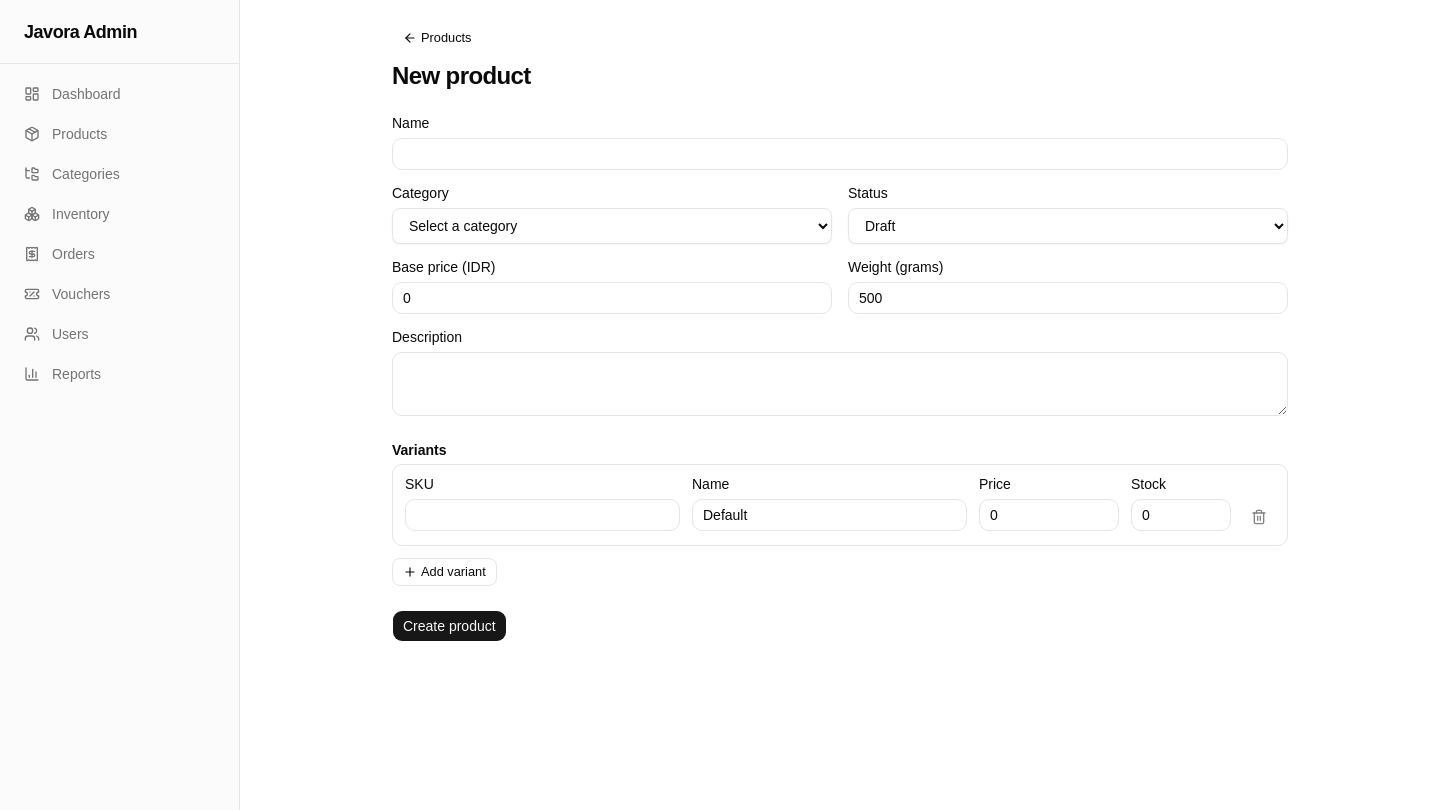
Test: admin products › creates a product with its first variant and opens it for editing
Type "  Canvas Tote " into the 1st field labelled "Name". click: (840, 154)
box: [392,138,1288,170]
Select "— Shoes" in the dropdown labelled "Category". click: (612, 226)
box: [392,208,832,244]
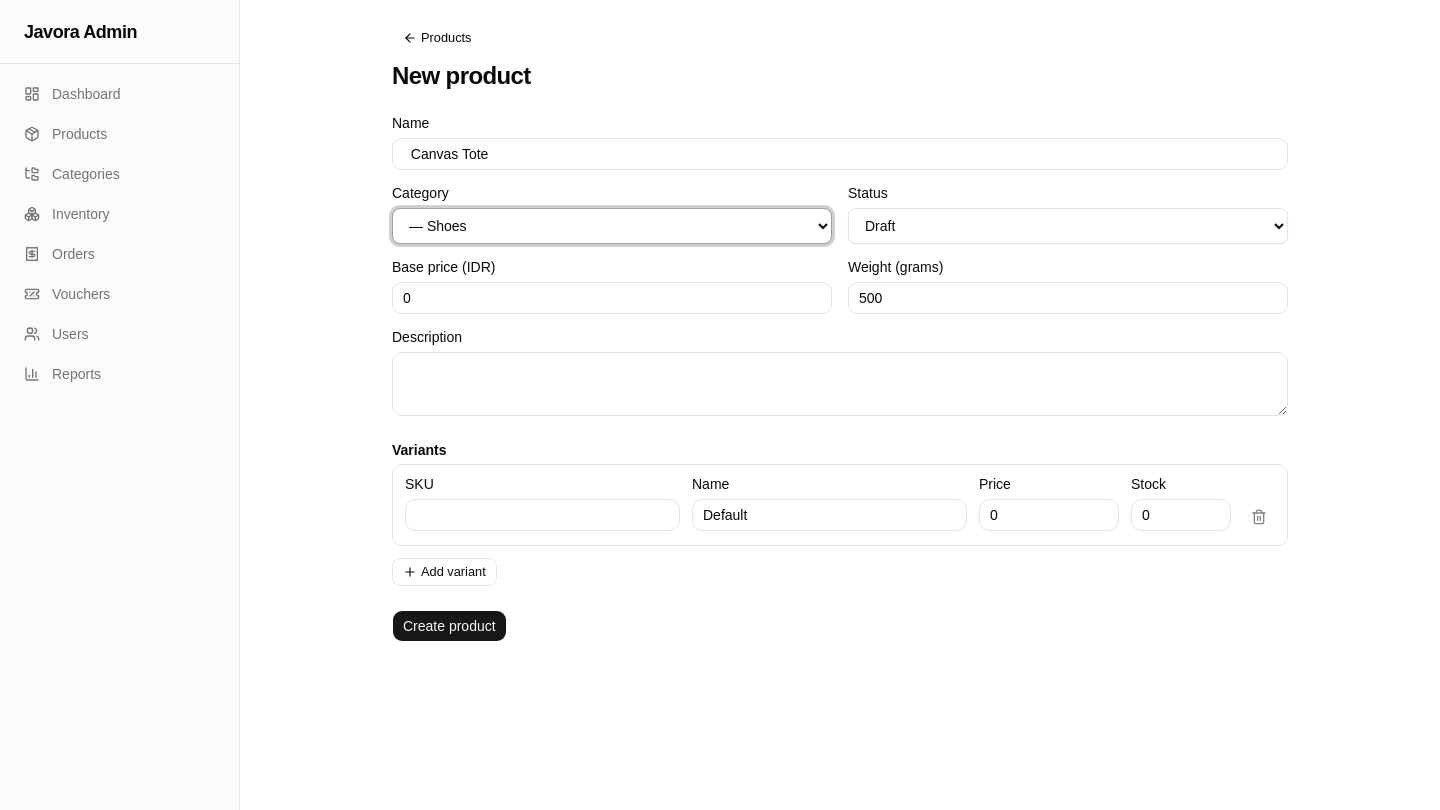
Replace the text in the number field labelled "Base price (IDR)" with "120000". click: (612, 298)
box: [392,282,832,314]
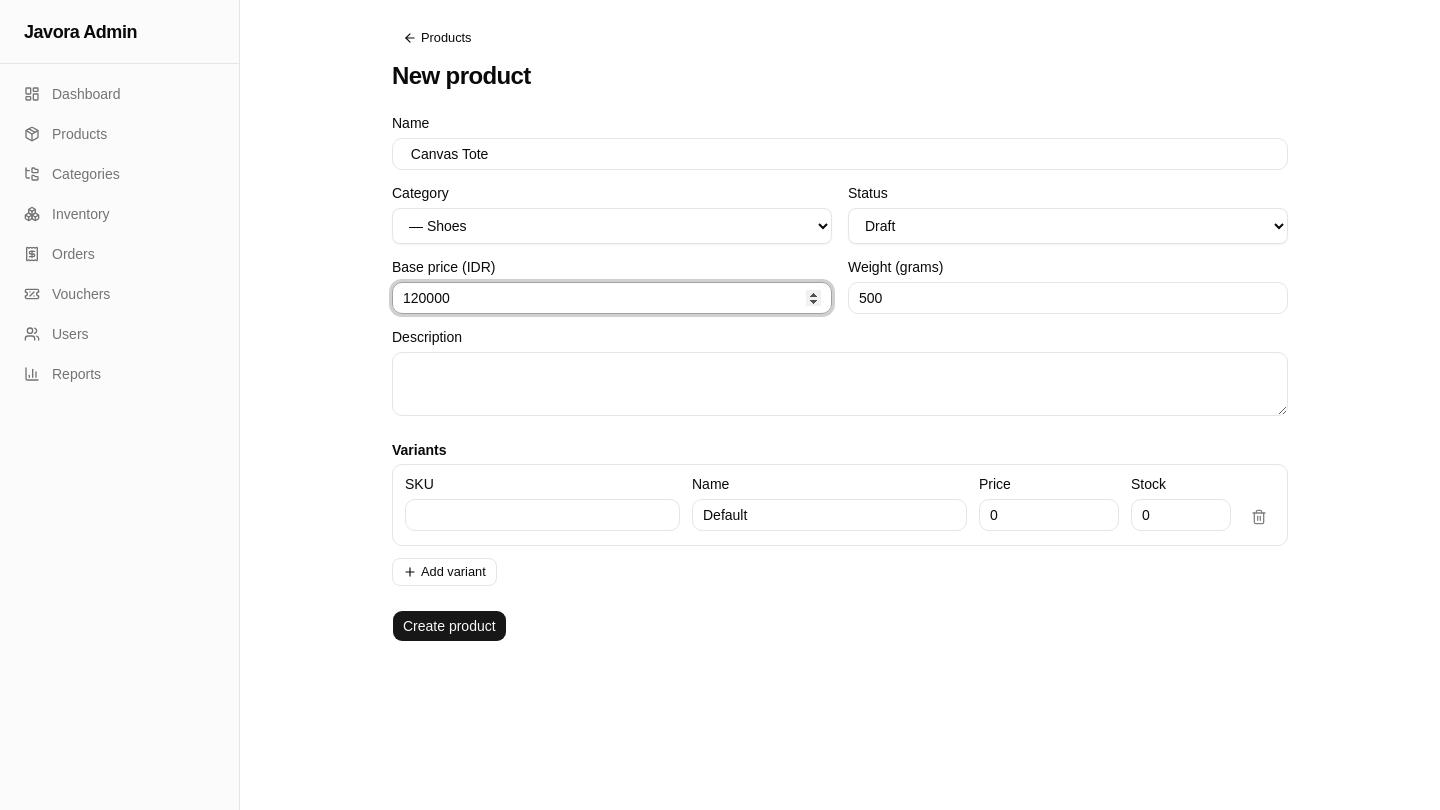
Type "TOTE-1" into the field labelled "SKU". click: (542, 515)
box: [405,499,680,531]
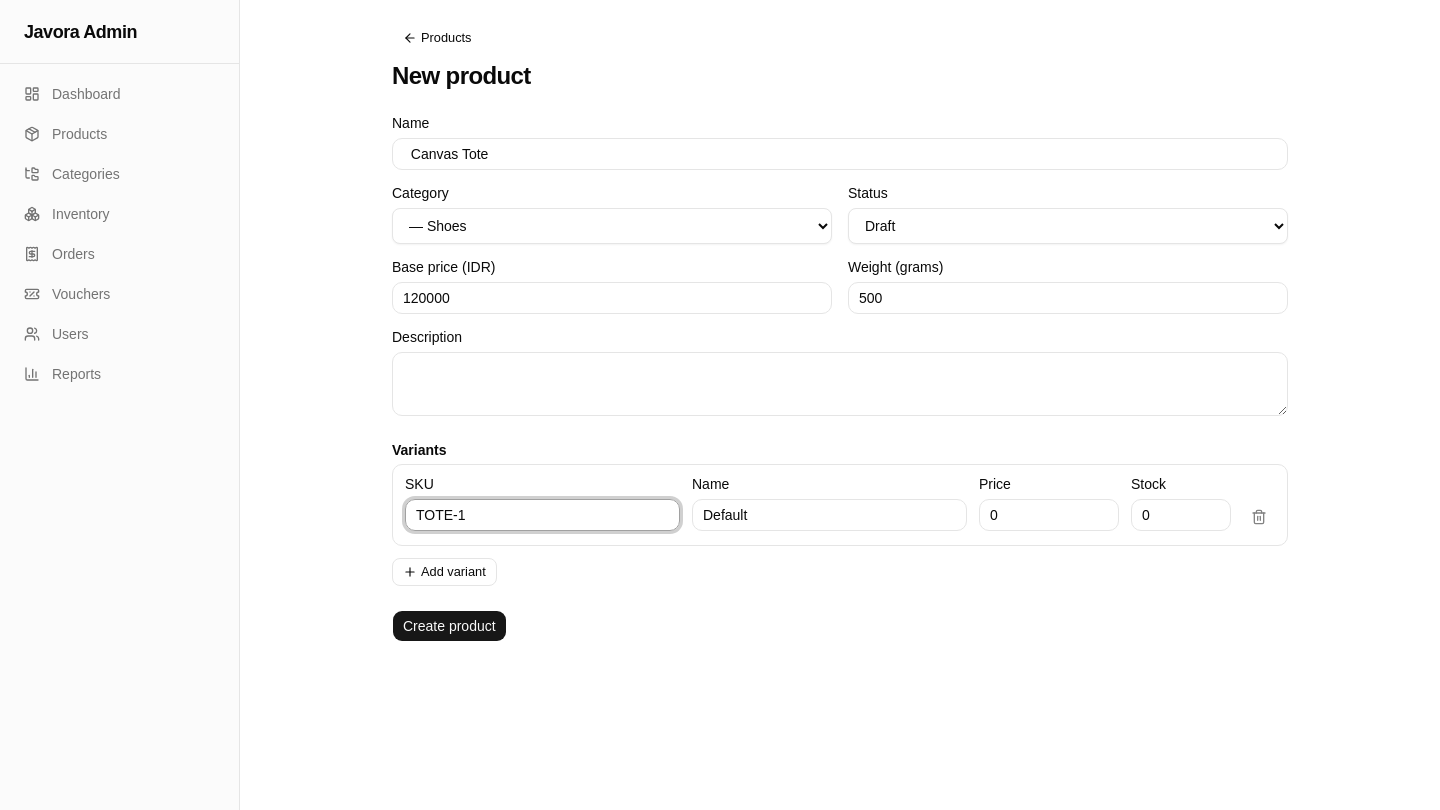
Replace the text in the number field labelled "Price" with "120000". click: (1049, 515)
box: [979,499,1119,531]
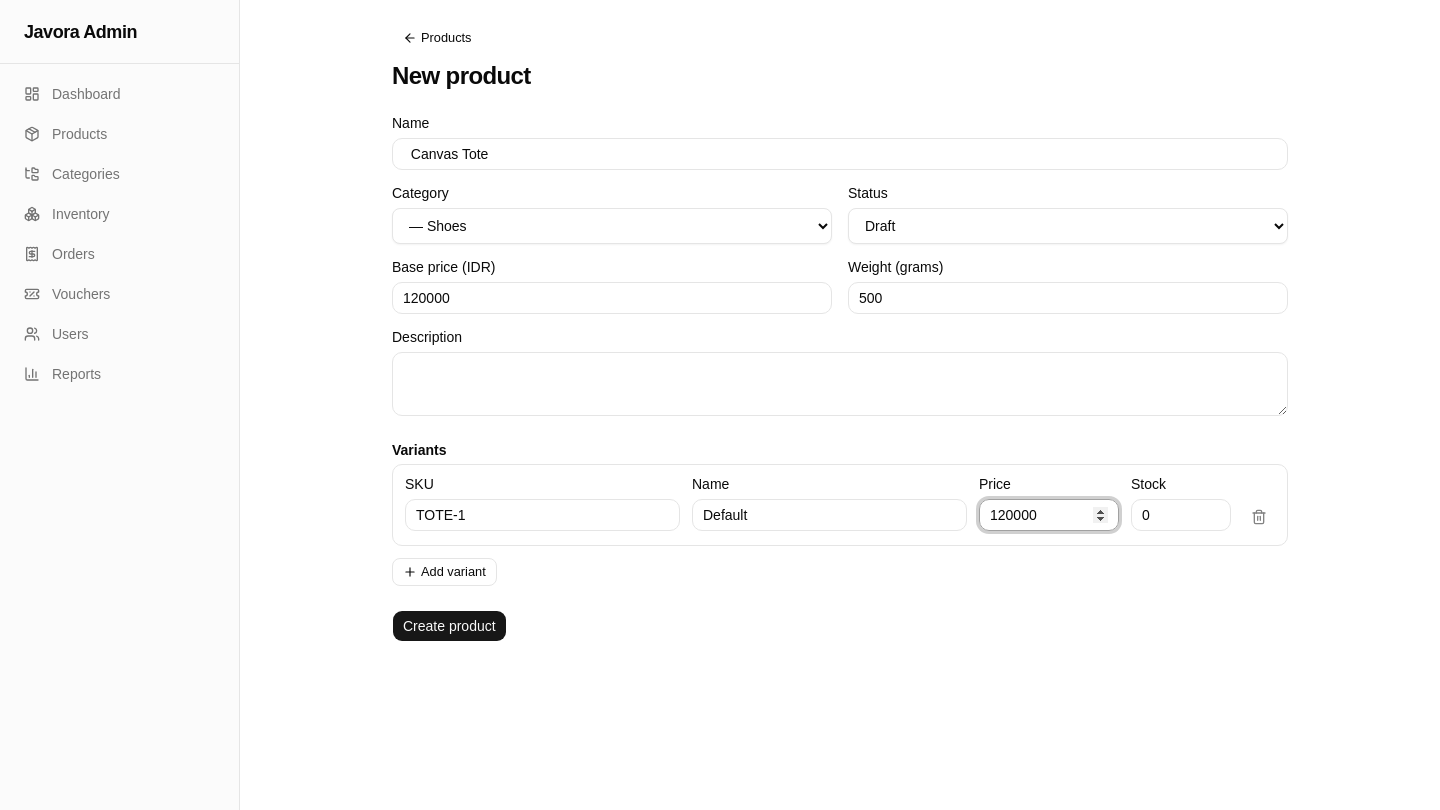
Replace the text in the number field labelled "Stock" with "10". click: (1181, 515)
box: [1131,499,1231,531]
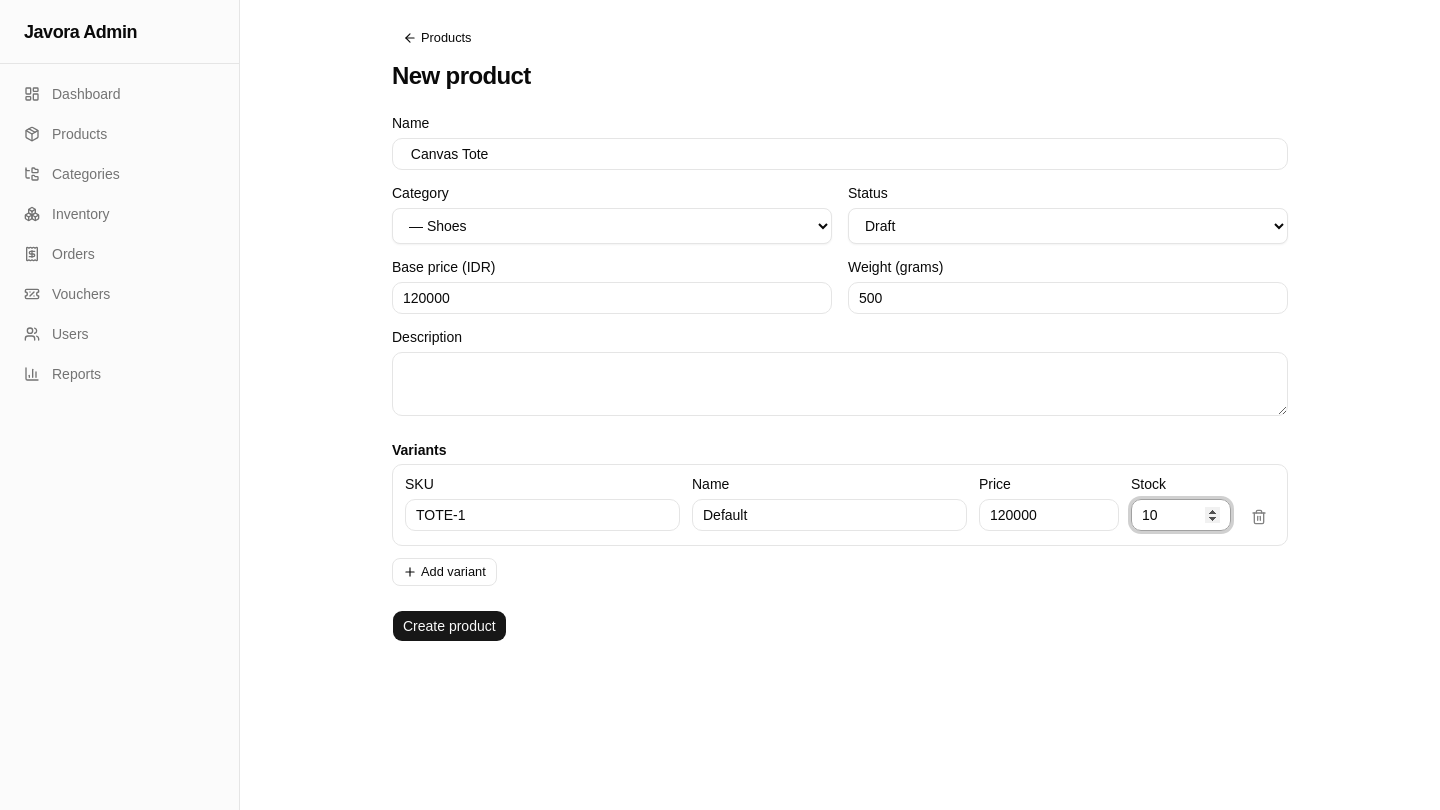
Click the button "Create product". click: (449, 626)
box: [392,610,507,642]
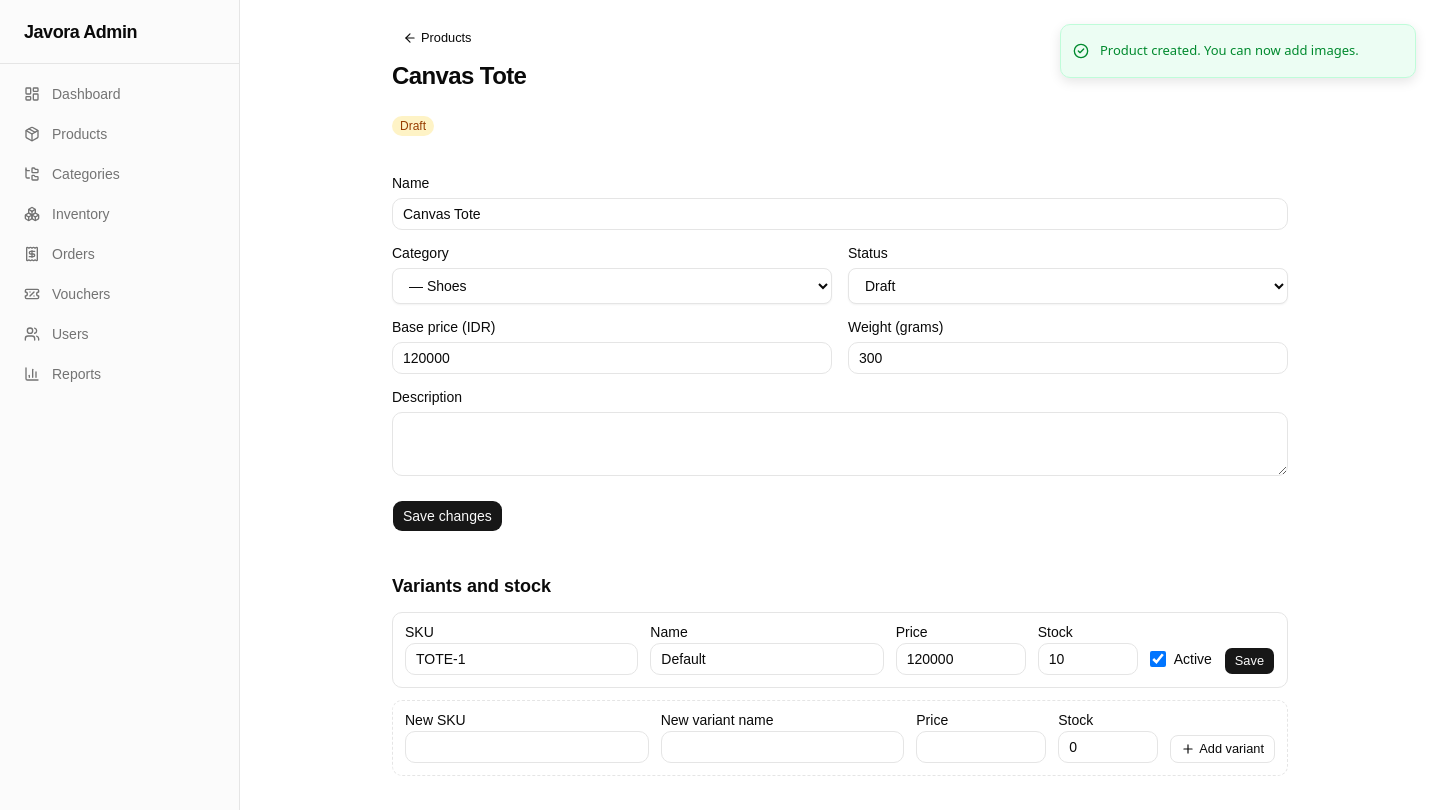
Expected: the heading "Variants and stock" is shown, [392,576,551,596]
